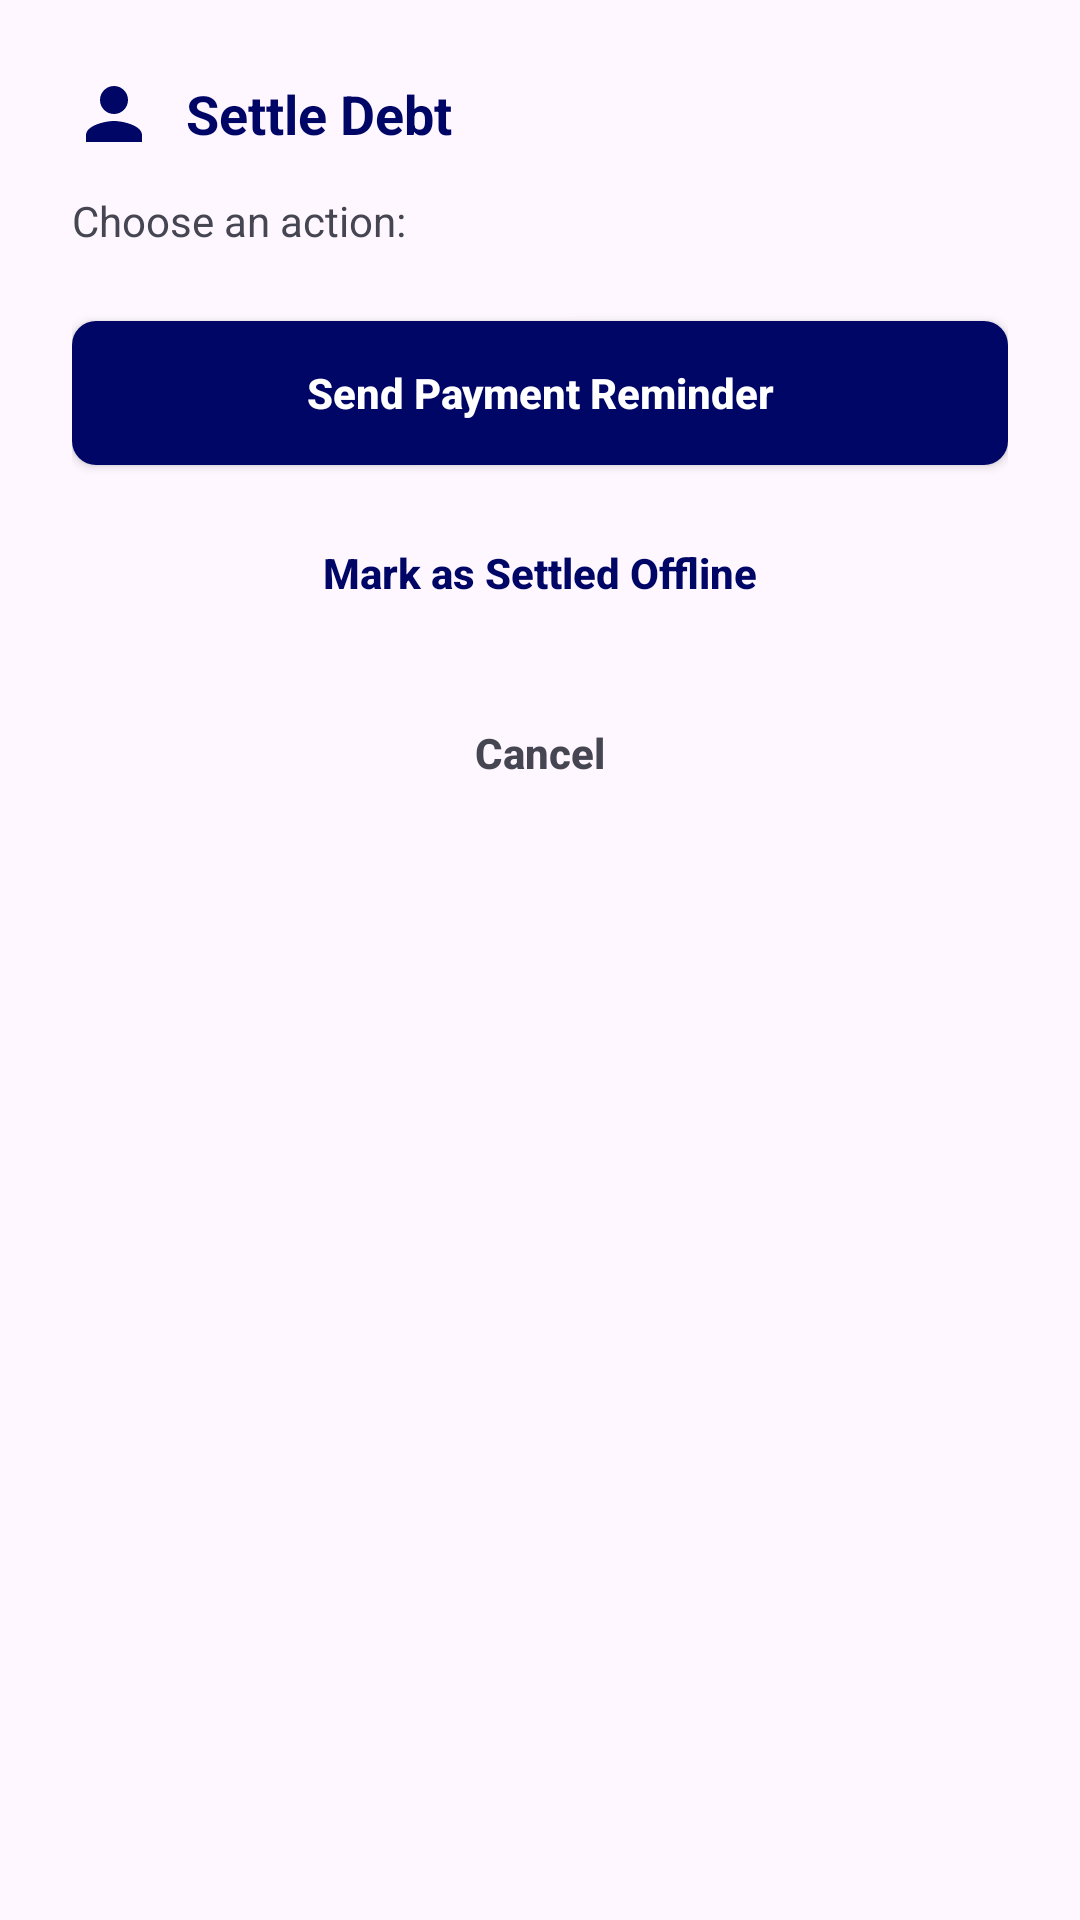

Icons on this 1080*1920 Android screen, each with the point to tap as (x=x, y=y):
profile: (x=114, y=114)
